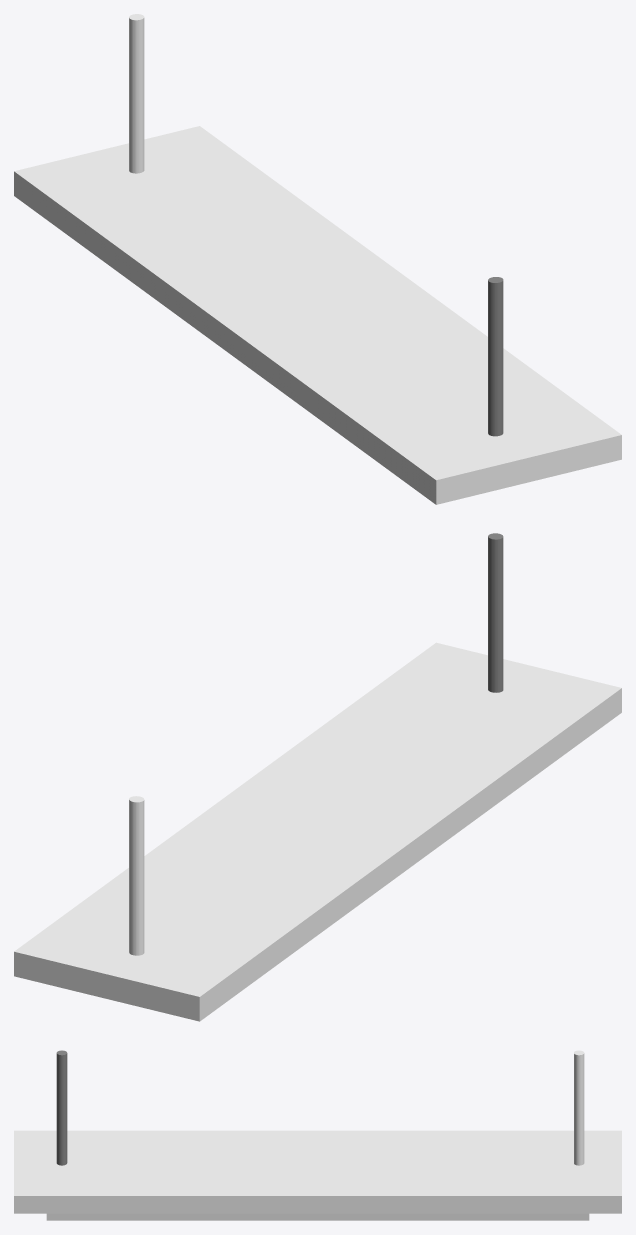
The model's file is lampasklep.glb.
3 views of the same model, one above another, from view 1: azimuth 30°, elevation 25°; view 2: azimuth 150°, elevation 25°; view 3: azimuth 270°, elevation 25° (orthographic). The views are drawn at different scales.
Visible parts, largest first — view 1: Cube, Cylinder.001, Cylinder; view 2: Cube, Cylinder, Cylinder.001; view 3: Cube, Cube.001, Cylinder, Cylinder.001.
Boxes of the visible parts, x1,y1,x2,y2 form: Cube: (14, 126, 621, 504); Cylinder.001: (129, 14, 144, 173); Cylinder: (488, 277, 503, 436); Cube: (14, 642, 621, 1021); Cylinder: (488, 533, 503, 692); Cylinder.001: (129, 796, 144, 955); Cube: (14, 1130, 621, 1213); Cube.001: (46, 1213, 589, 1220); Cylinder: (56, 1050, 67, 1165); Cylinder.001: (574, 1050, 584, 1165).
Size of the model in its own units: 2 by 2.05 by 7.87.
4 materials, 2 textured.
